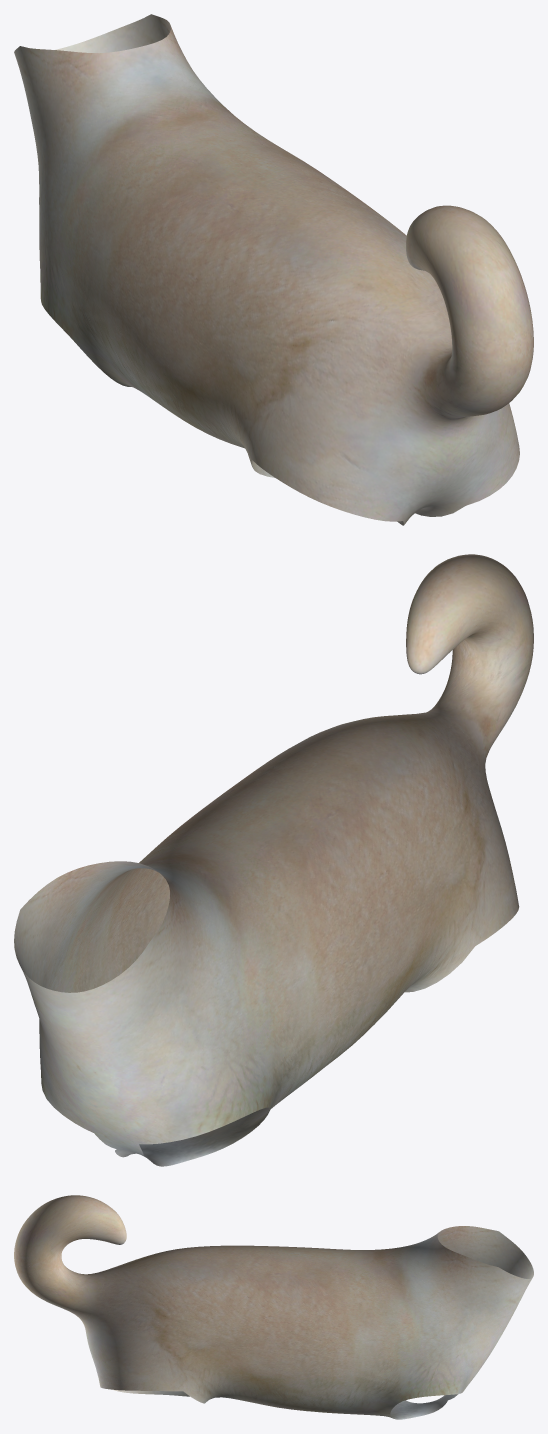
The model's file is Torso.obj.
3 renders of one model, top to bottom at view 1: azimuth 30°, elevation 25°; view 2: azimuth 150°, elevation 25°; view 3: azimuth 270°, elevation 25°, orthographic. The views are drawn at different scales.
Parts seen in each view (by area): view 1: Canaan_Dog; view 2: Canaan_Dog; view 3: Canaan_Dog.
Boxes of the visible parts, box(x1,y1,x2,y2) form: Canaan_Dog: box(14, 14, 533, 525); Canaan_Dog: box(14, 554, 533, 1166); Canaan_Dog: box(14, 1195, 533, 1419).
Bounding box in the file's own units: 10.47 × 16.41 × 36.34.
Materials: 1 (1 with a texture image).
